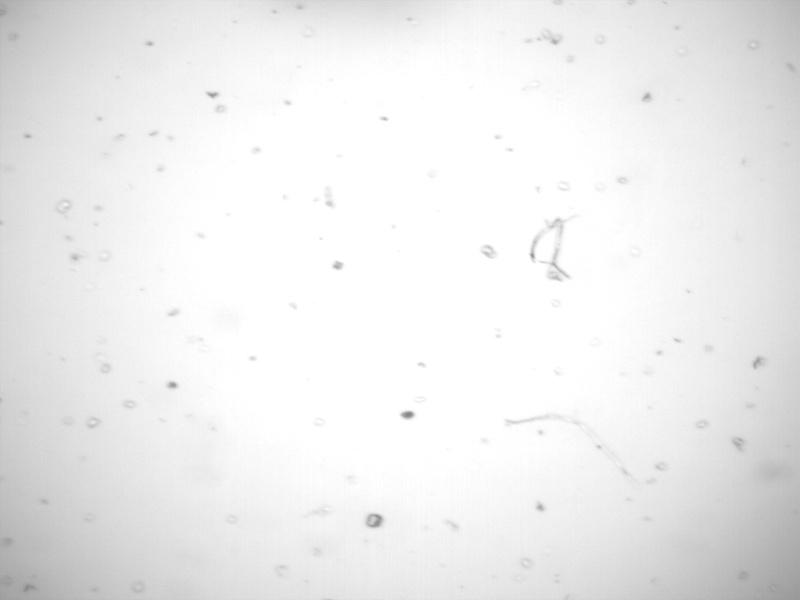fiber: (503, 411, 641, 491), (527, 213, 581, 283)
